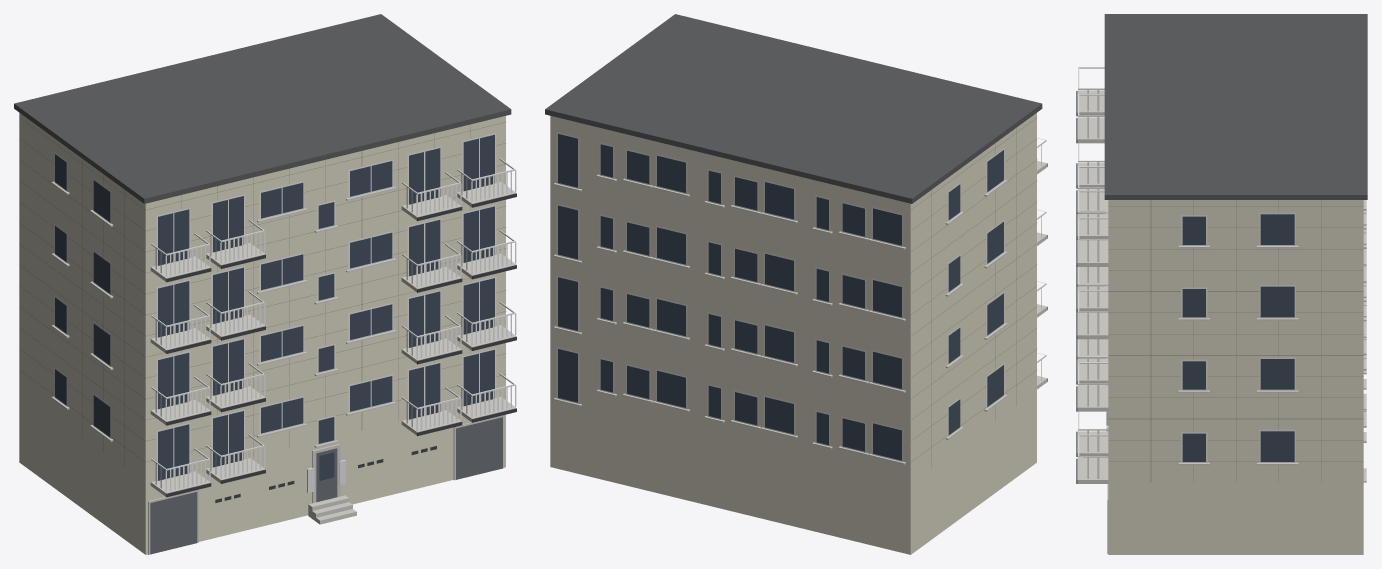
File: nw-pilotis-panel-flat__concrete-panel__5__flat__long__solid.glb
3 views of the same model, side by side, from view 1: azimuth 30°, elevation 25°; view 2: azimuth 150°, elevation 25°; view 3: azimuth 270°, elevation 25° (orthographic).
Parts seen in each view (by area): view 1: nw-pilotis-panel-flat__concrete-panel__5__flat__long__solid; view 2: nw-pilotis-panel-flat__concrete-panel__5__flat__long__solid; view 3: nw-pilotis-panel-flat__concrete-panel__5__flat__long__solid.
Boxes of the visible parts, x1=… form: nw-pilotis-panel-flat__concrete-panel__5__flat__long__solid: x1=14, y1=14, x2=516, y2=554; nw-pilotis-panel-flat__concrete-panel__5__flat__long__solid: x1=545, y1=14, x2=1047, y2=554; nw-pilotis-panel-flat__concrete-panel__5__flat__long__solid: x1=1076, y1=14, x2=1367, y2=554.
Bounding box in the file's own units: 16.45 × 15.34 × 11.18.
